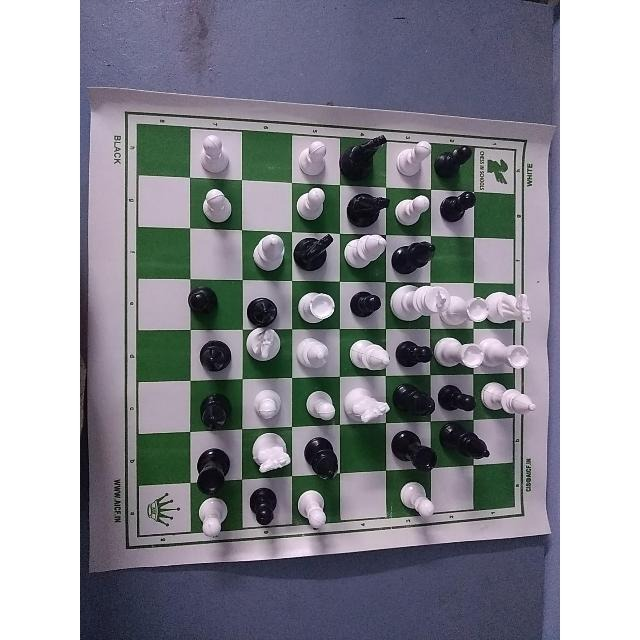black-bishop: (190, 385, 240, 435), (301, 432, 347, 483), (439, 426, 493, 464), (190, 337, 237, 380), (397, 232, 439, 276), (396, 377, 435, 423), (242, 286, 281, 326)
black-knight: (339, 129, 399, 179), (295, 226, 339, 272), (345, 183, 393, 225)
black-pawn: (246, 485, 282, 539), (440, 186, 486, 226), (183, 279, 220, 326), (344, 283, 384, 326), (396, 331, 435, 375), (441, 141, 479, 185), (439, 380, 476, 418)
black-rook: (393, 423, 435, 473), (185, 449, 232, 493)
white-bishop: (481, 381, 540, 421), (245, 229, 291, 277), (344, 332, 392, 376), (339, 232, 386, 276), (296, 332, 336, 375)
white-king: (390, 279, 449, 330)
white-knight: (242, 432, 290, 480), (343, 387, 392, 434), (488, 286, 540, 328), (245, 330, 291, 377)
white-pawn: (183, 497, 239, 540), (192, 179, 238, 229), (396, 131, 436, 182), (196, 130, 238, 177), (288, 184, 334, 224), (395, 481, 438, 523), (298, 386, 337, 428), (297, 133, 331, 181), (250, 381, 282, 429), (294, 497, 333, 536), (394, 190, 433, 226)
white-rook: (485, 331, 535, 376), (451, 287, 487, 335), (436, 335, 484, 371), (295, 287, 339, 326)
